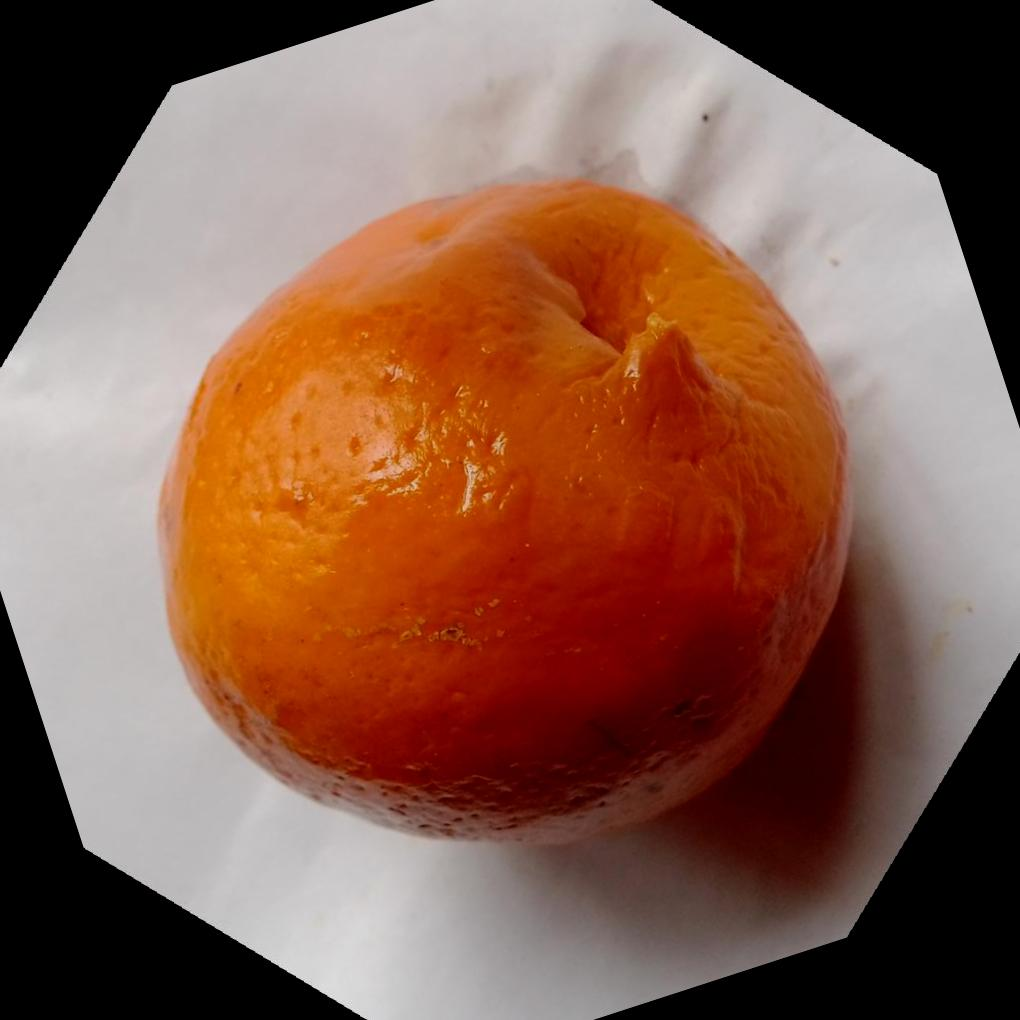FreshOrange: (157, 173, 860, 848)
